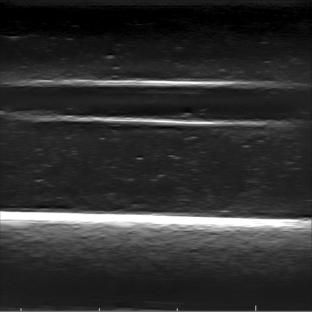vessel: (4, 78, 307, 128)
